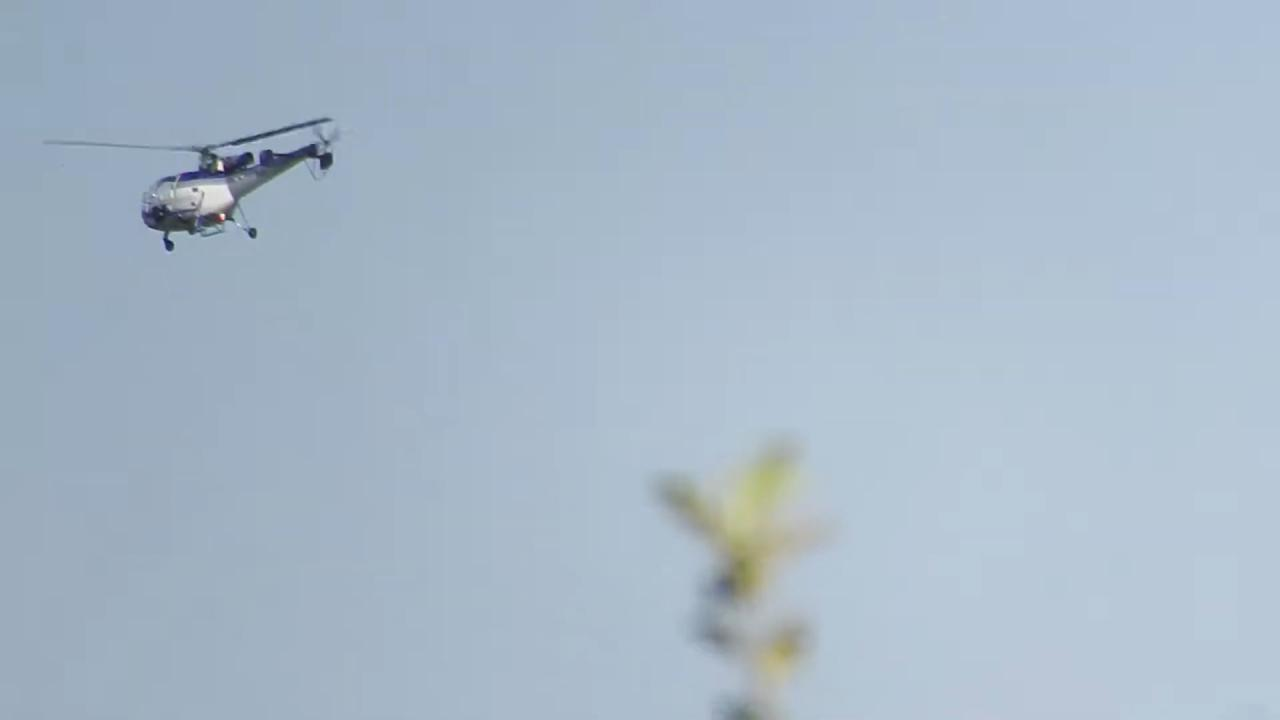Helicopter: (32, 86, 362, 278)
